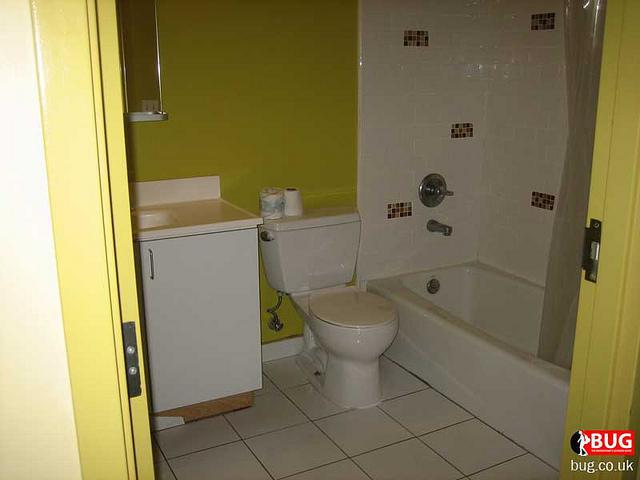Sanitario: (270, 205, 406, 409)
